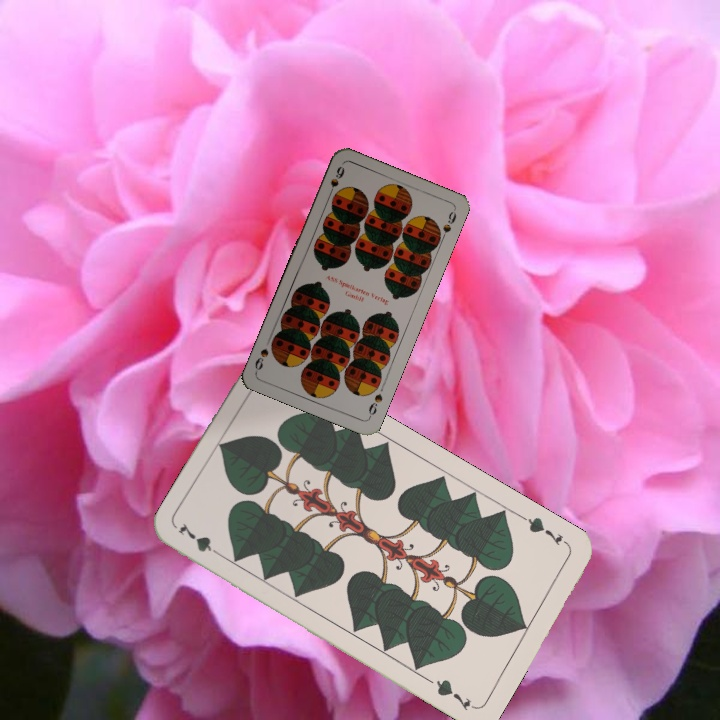G7: (174, 519, 227, 562), (518, 512, 572, 549)
S9: (324, 162, 347, 200), (364, 390, 385, 421)
